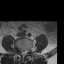CCS_normal: (23, 49, 25, 57)
LFS_stenosis: (27, 47, 29, 54)
LLS_normal: (25, 48, 27, 56)
RFS_severe_stenosis: (19, 47, 21, 53)
RLS_normal: (21, 48, 23, 56)
